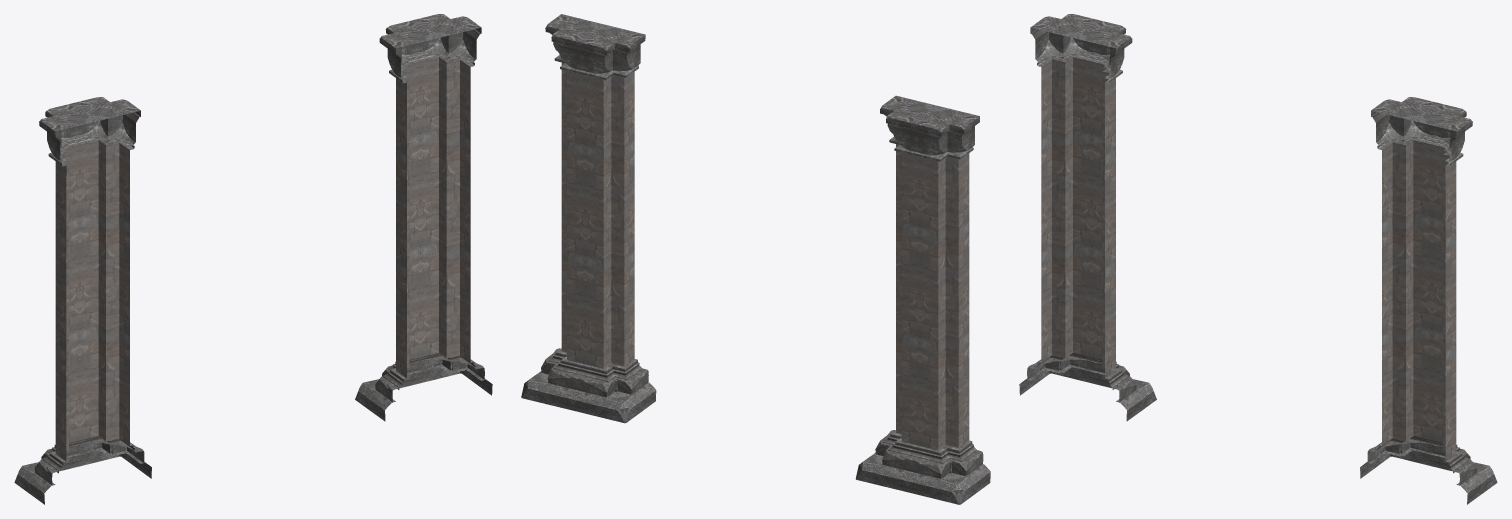
The picture shows the model from 3 angles, left to right: view 1: azimuth 30°, elevation 25°; view 2: azimuth 150°, elevation 25°; view 3: azimuth 330°, elevation 25°; orthographic projection.
Parts seen in each view (by area): view 1: SM_Dungeon_RoomWideDoor_LOD0; view 2: SM_Dungeon_RoomWideDoor_LOD0; view 3: SM_Dungeon_RoomWideDoor_LOD0.
Boxes of the visible parts, x1,y1,x2,y2 form: SM_Dungeon_RoomWideDoor_LOD0: [14, 14, 492, 504]; SM_Dungeon_RoomWideDoor_LOD0: [521, 14, 990, 504]; SM_Dungeon_RoomWideDoor_LOD0: [1019, 14, 1497, 504].
Size of the model in its own units: 7.91 by 6.25 by 0.9543.
2 materials, 2 textured.
